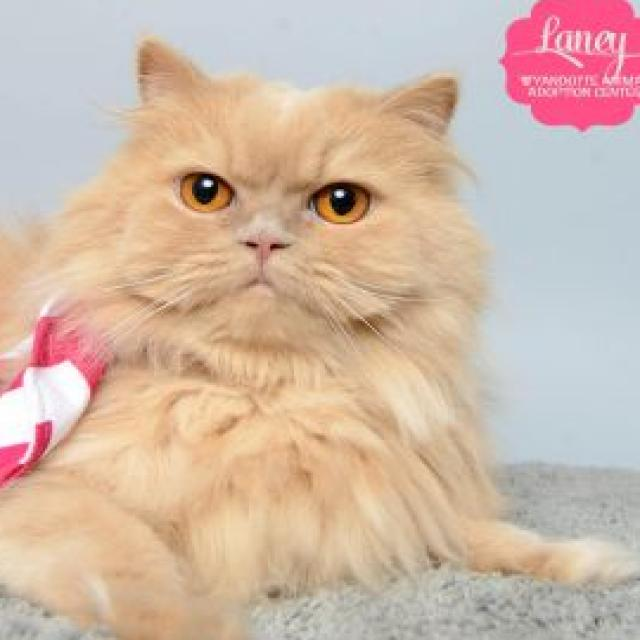Persian: (0, 33, 628, 640)
